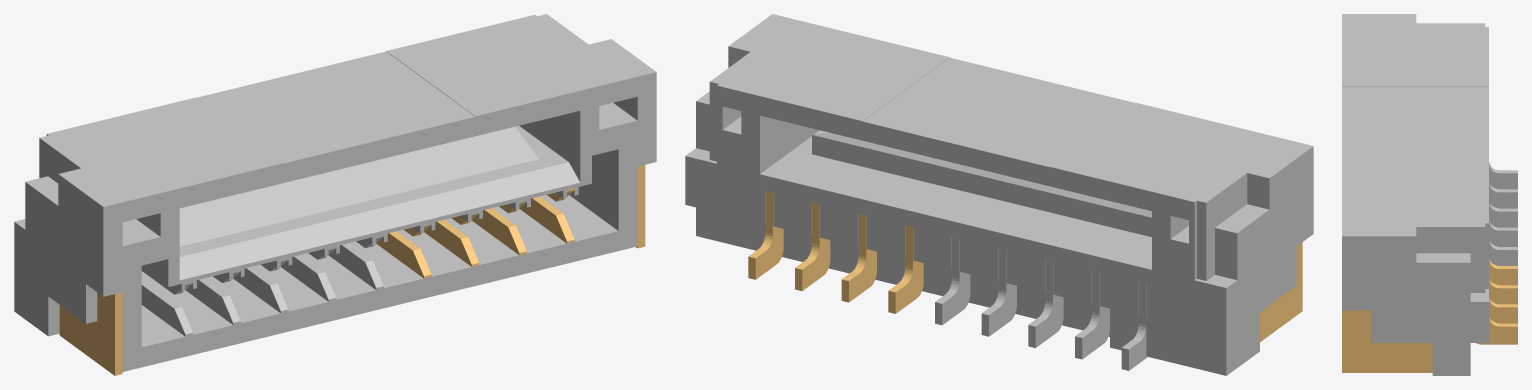
The model's file is SM09B-GHS-TB.obj.
3 renders of one model, left to right at view 1: azimuth 30°, elevation 25°; view 2: azimuth 150°, elevation 25°; view 3: azimuth 270°, elevation 25°, orthographic. The views are drawn at different scales.
Parts seen in each view (by area): view 1: SM09B-GHS-TB; view 2: SM09B-GHS-TB; view 3: SM09B-GHS-TB.
Part boxes in pixels (box(x1,y1,x2,y2)): SM09B-GHS-TB: box(14, 14, 656, 375); SM09B-GHS-TB: box(685, 14, 1313, 375); SM09B-GHS-TB: box(1342, 14, 1517, 375).
Bounding box in the file's own units: 0.014 × 0.00415 × 0.00469.
